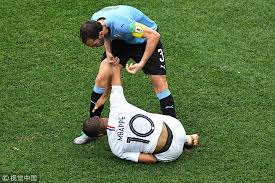fall: (70, 55, 207, 166)
